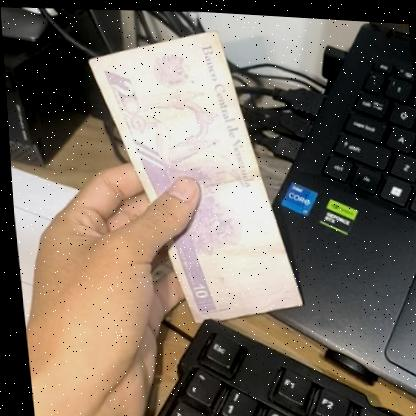ten-back-vef: (86, 25, 301, 327)
